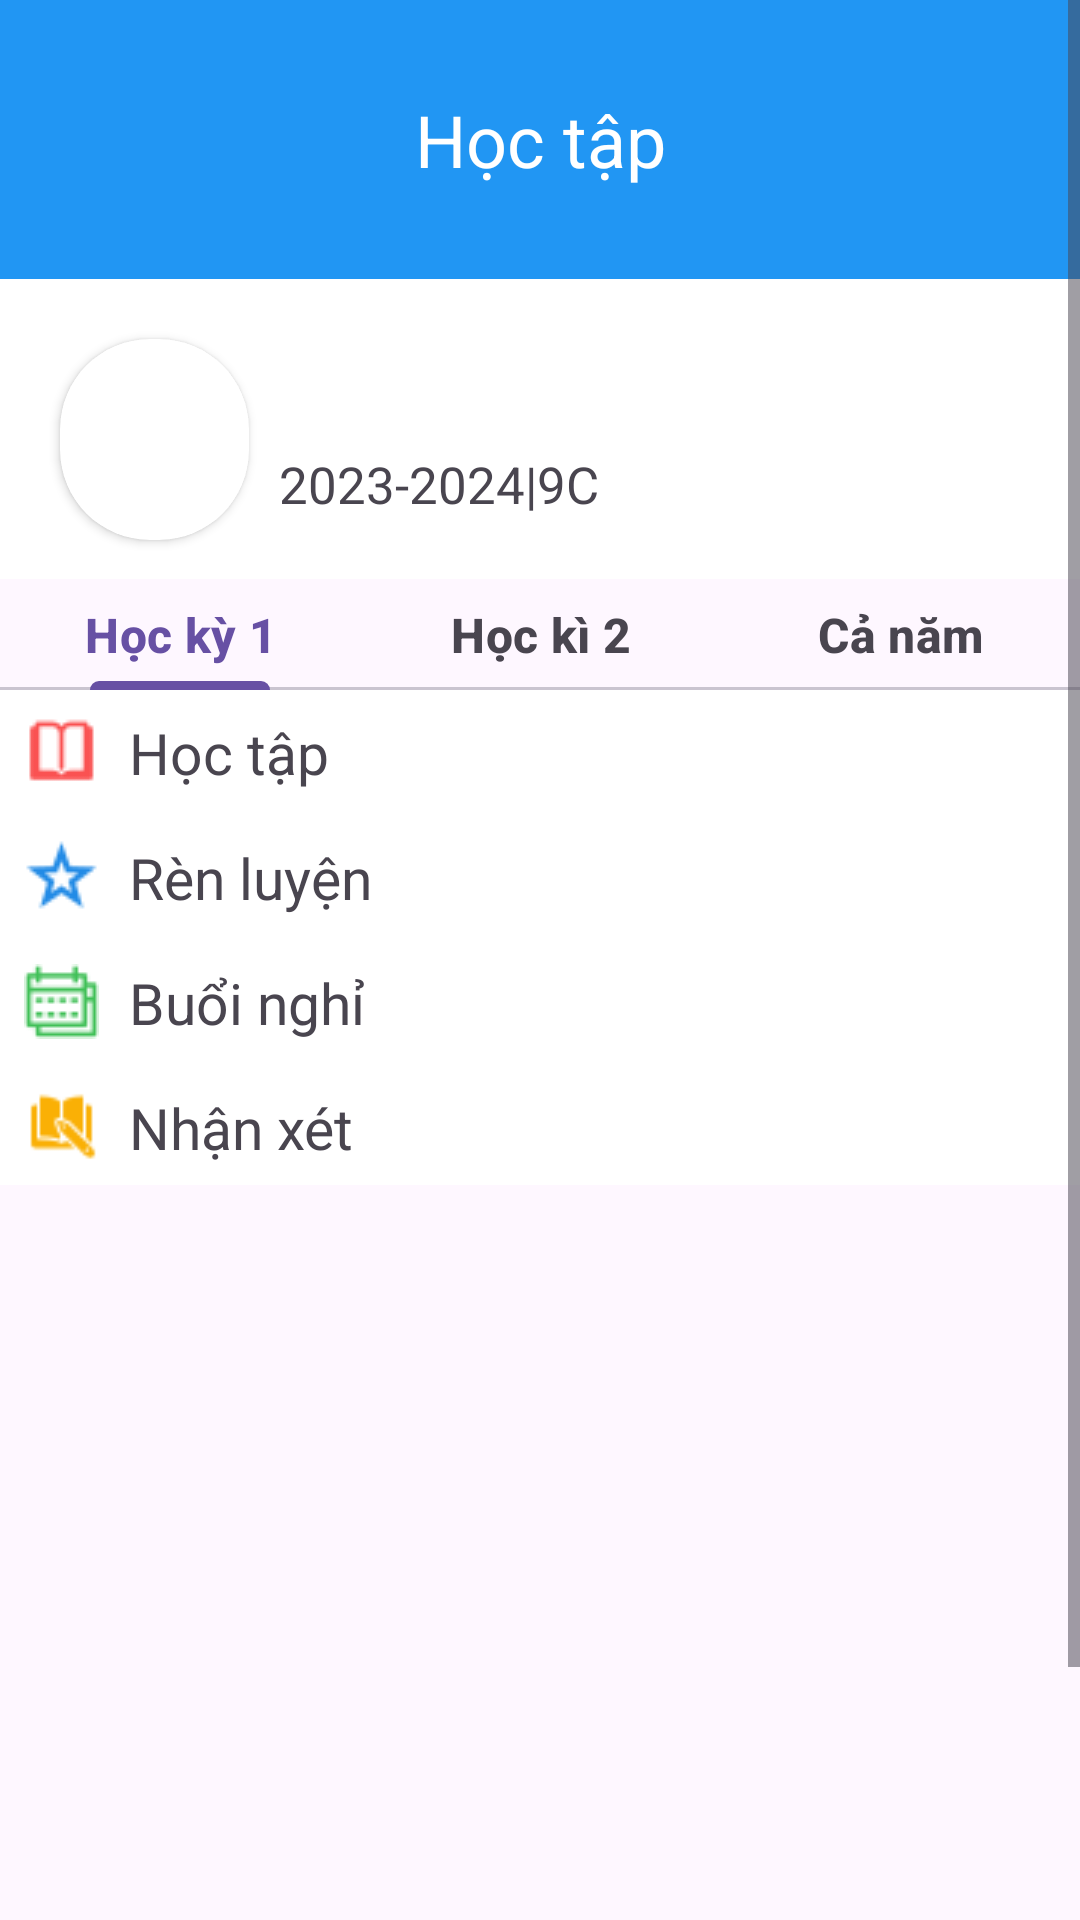

Named icons in this screenshot (1080×1920) and their bounding boxes, (x1, y1, x2, y2):
book: (29, 720, 94, 781)
bookpencil: (30, 1094, 96, 1159)
calender: (24, 964, 99, 1039)
star: (26, 842, 97, 908)
